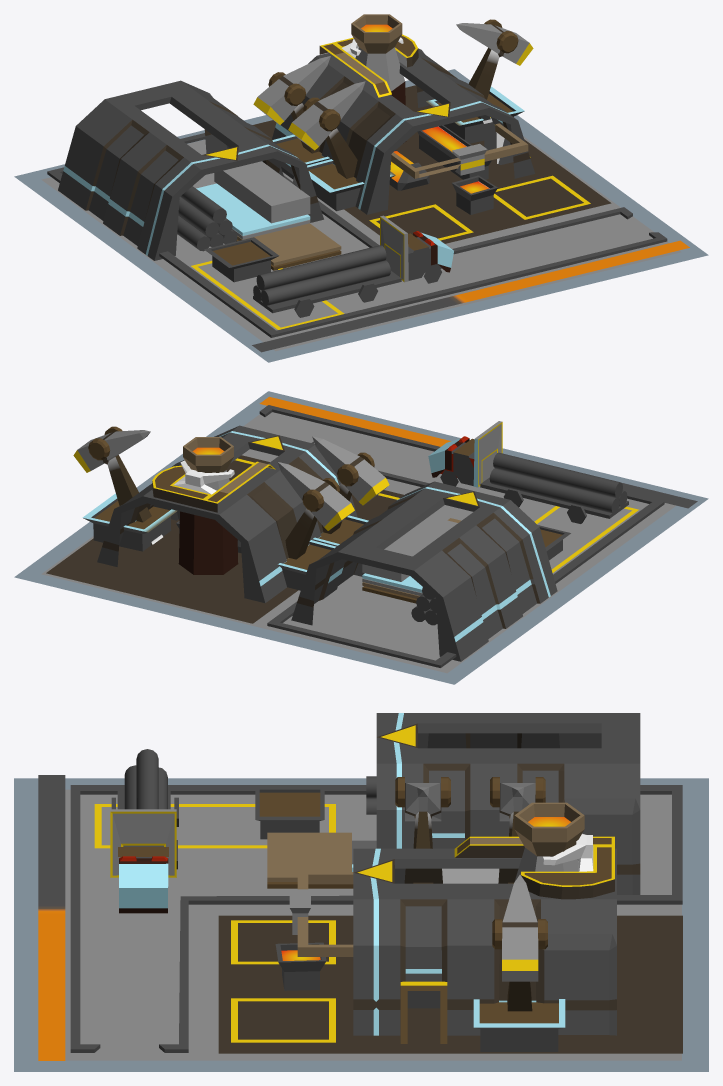
The model's file is metal_LV2.fbx.
The picture shows the model from 3 angles, top to bottom: view 1: azimuth 30°, elevation 25°; view 2: azimuth 150°, elevation 25°; view 3: azimuth 270°, elevation 25°; orthographic projection. The views are drawn at different scales.
Parts seen in each view (by area): view 1: metal_level2; view 2: metal_level2; view 3: metal_level2.
Boxes of the visible parts, bbox=[...] form: metal_level2: bbox=[14, 14, 708, 362]; metal_level2: bbox=[14, 391, 708, 684]; metal_level2: bbox=[14, 713, 708, 1071].
Size of the model in its own units: 162 by 49.68 by 161.
